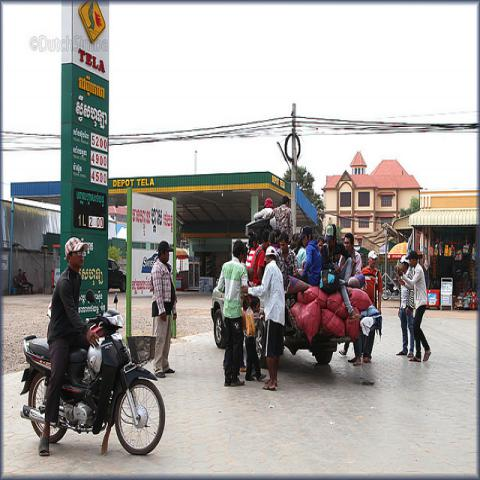motorcycle: (17, 289, 166, 460), (382, 281, 399, 301)
truck: (255, 278, 382, 369), (211, 278, 227, 346)
